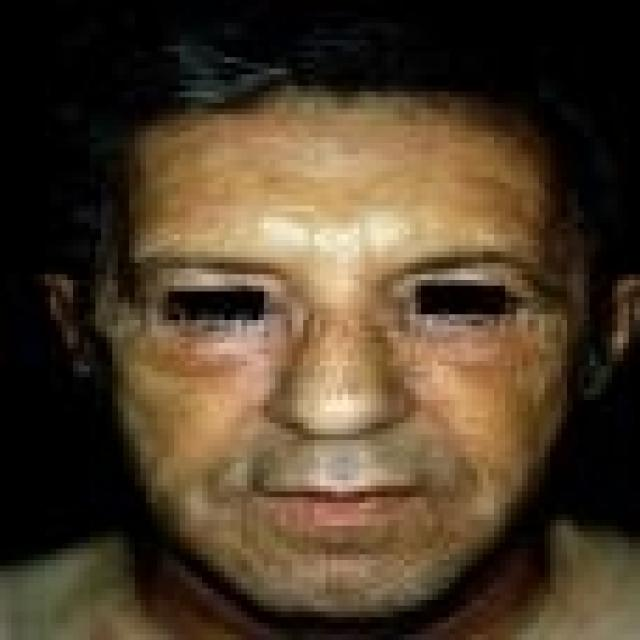Melasma: (127, 338, 271, 389), (418, 326, 546, 381)
